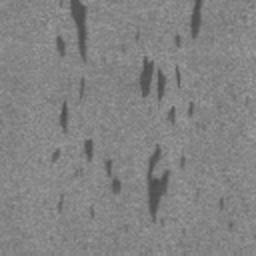Red iron sheet: (140, 56, 195, 127), (146, 143, 186, 224), (55, 0, 90, 64), (175, 0, 205, 47), (105, 160, 122, 195), (59, 102, 69, 136), (83, 138, 93, 160), (79, 77, 86, 100), (51, 150, 61, 164), (58, 198, 64, 214)
